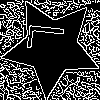L: (26, 21, 74, 55)
